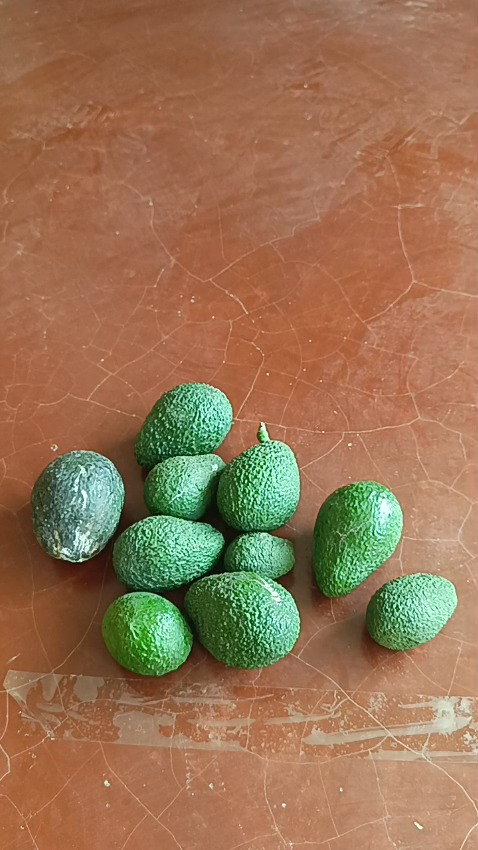Primera: (185, 571, 302, 667), (310, 481, 403, 597), (29, 451, 125, 563), (114, 516, 226, 593), (134, 384, 234, 470), (217, 441, 302, 533)
Segunda: (101, 590, 192, 675), (364, 573, 458, 650), (144, 455, 226, 523)
Tercera: (224, 533, 297, 582)
